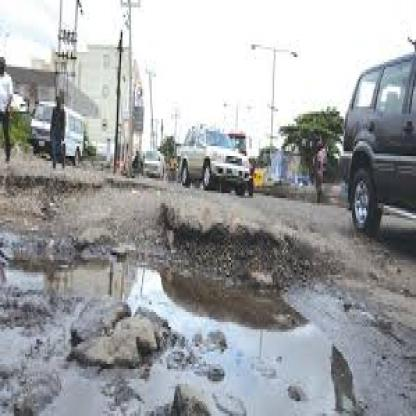car: (342, 39, 416, 248), (177, 124, 254, 202), (27, 92, 87, 174), (143, 135, 168, 179)
